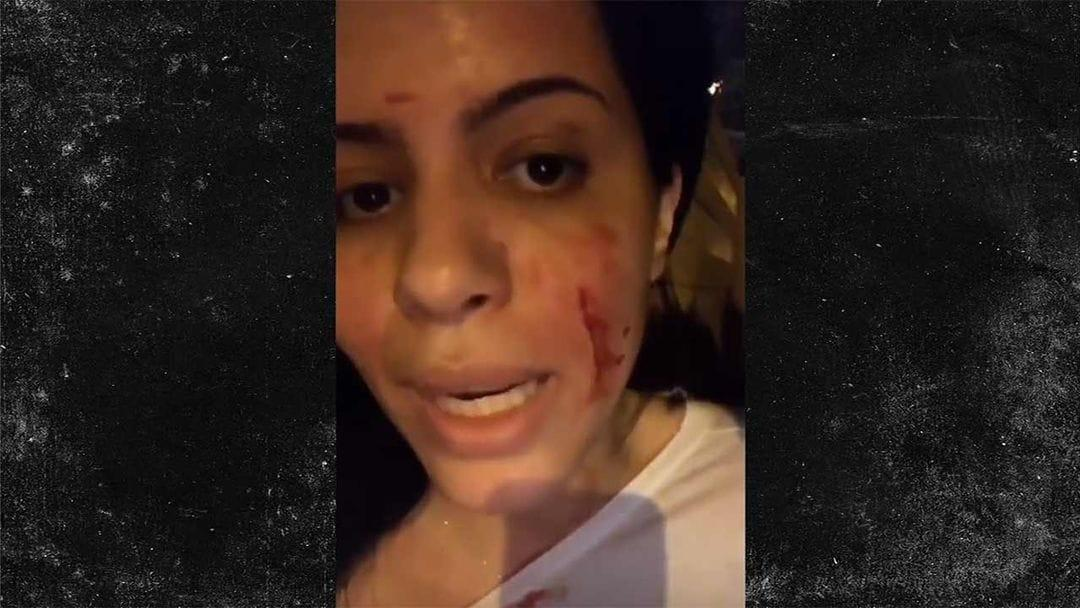Fire: (580, 287, 632, 400), (506, 590, 555, 608)
